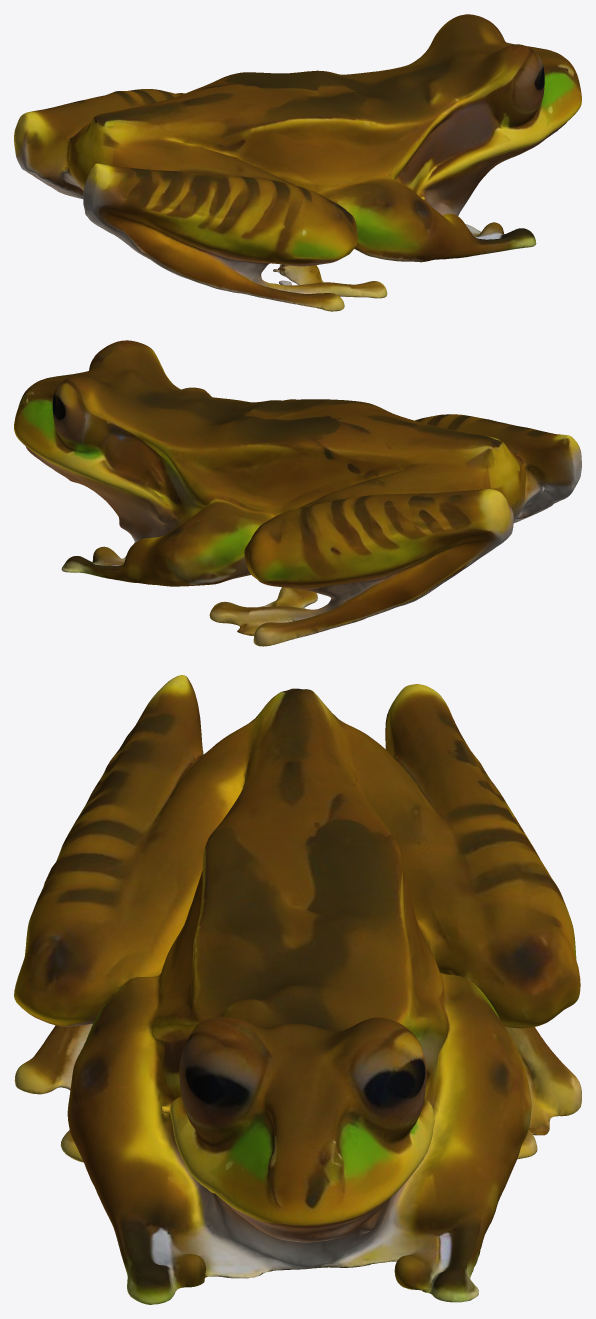
File: smilisca-phaeota.glb
3 views of the same model, one above another, from view 1: azimuth 30°, elevation 25°; view 2: azimuth 150°, elevation 25°; view 3: azimuth 270°, elevation 25° (orthographic). The views are drawn at different scales.
Visible parts, largest first — view 1: tripo_node_498861d8-f64c-405d-b57f-c4972946261b; view 2: tripo_node_498861d8-f64c-405d-b57f-c4972946261b; view 3: tripo_node_498861d8-f64c-405d-b57f-c4972946261b.
Boxes of the visible parts, x1,y1,x2,y2 form: tripo_node_498861d8-f64c-405d-b57f-c4972946261b: (14,14,581,311); tripo_node_498861d8-f64c-405d-b57f-c4972946261b: (14,340,581,646); tripo_node_498861d8-f64c-405d-b57f-c4972946261b: (14,675,581,1304).
Bounding box in the file's own units: 0.9998 × 0.3404 × 0.5688.
1 material, 1 textured.
